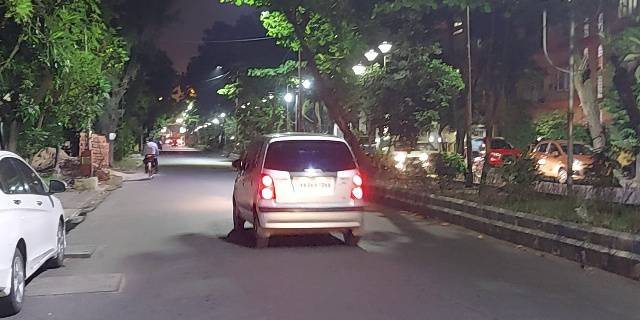Car: (231, 130, 363, 245)
